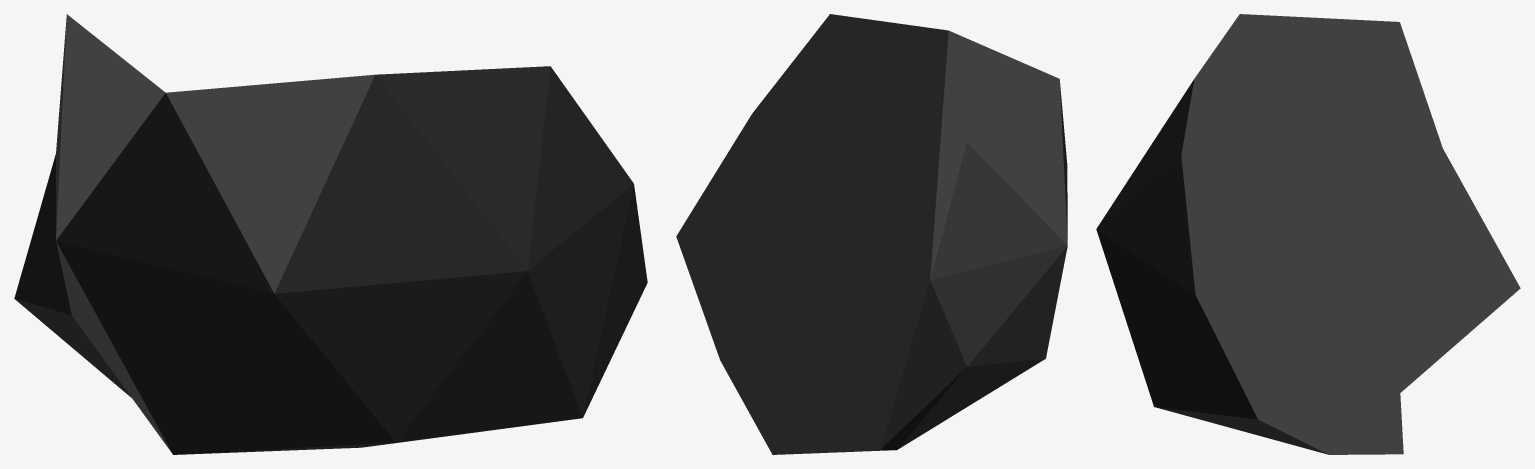
File: rock_1_piece.fbx
The picture shows the model from 3 angles, left to right: view 1: azimuth 30°, elevation 25°; view 2: azimuth 150°, elevation 25°; view 3: azimuth 270°, elevation 25°; orthographic projection. The views are drawn at different scales.
Visible parts, largest first — view 1: Icosphere; view 2: Icosphere; view 3: Icosphere.
Part boxes in pixels (<box>): Icosphere: <box>14,14,647,454</box>; Icosphere: <box>676,14,1067,454</box>; Icosphere: <box>1096,14,1520,454</box>.
Size of the model in its own units: 82.63 by 68.24 by 75.78.
